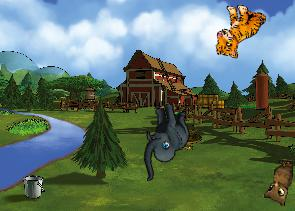elephant: (127, 99, 200, 181)
owl: (262, 158, 293, 206)
tiger: (212, 0, 267, 62)
